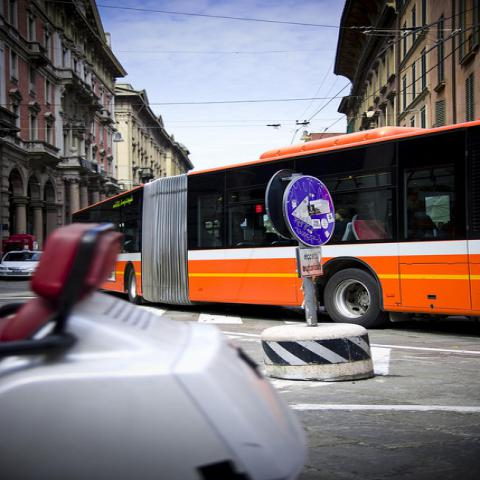bus: (54, 118, 479, 318)
car: (0, 249, 45, 278)
